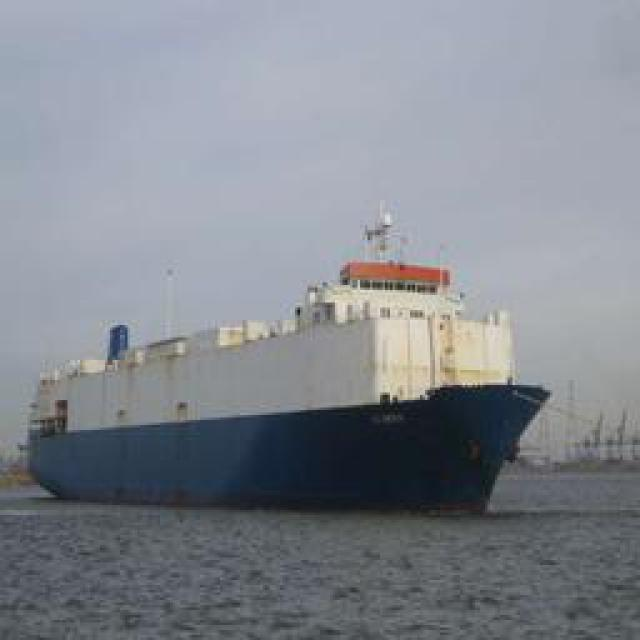Ship: (30, 195, 535, 513)
